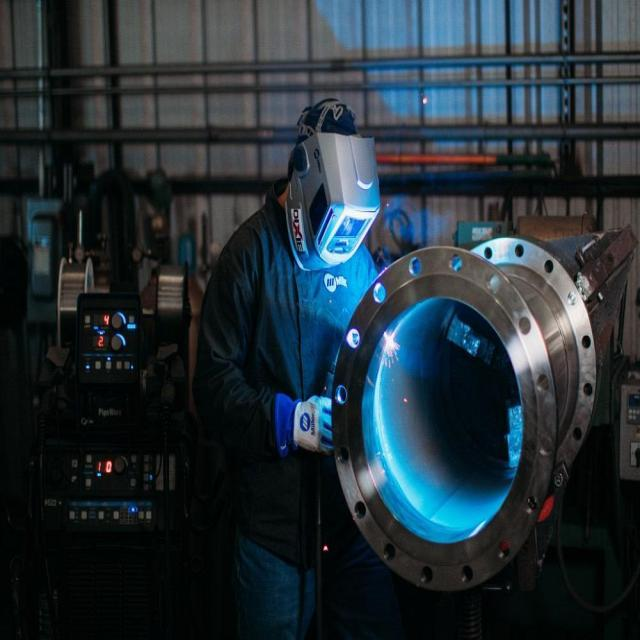with_helmet: (285, 100, 379, 269)
